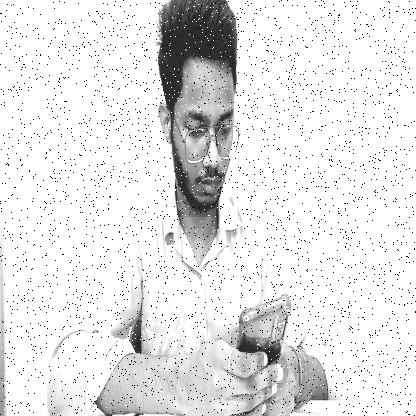Distracted: (155, 0, 241, 217)
